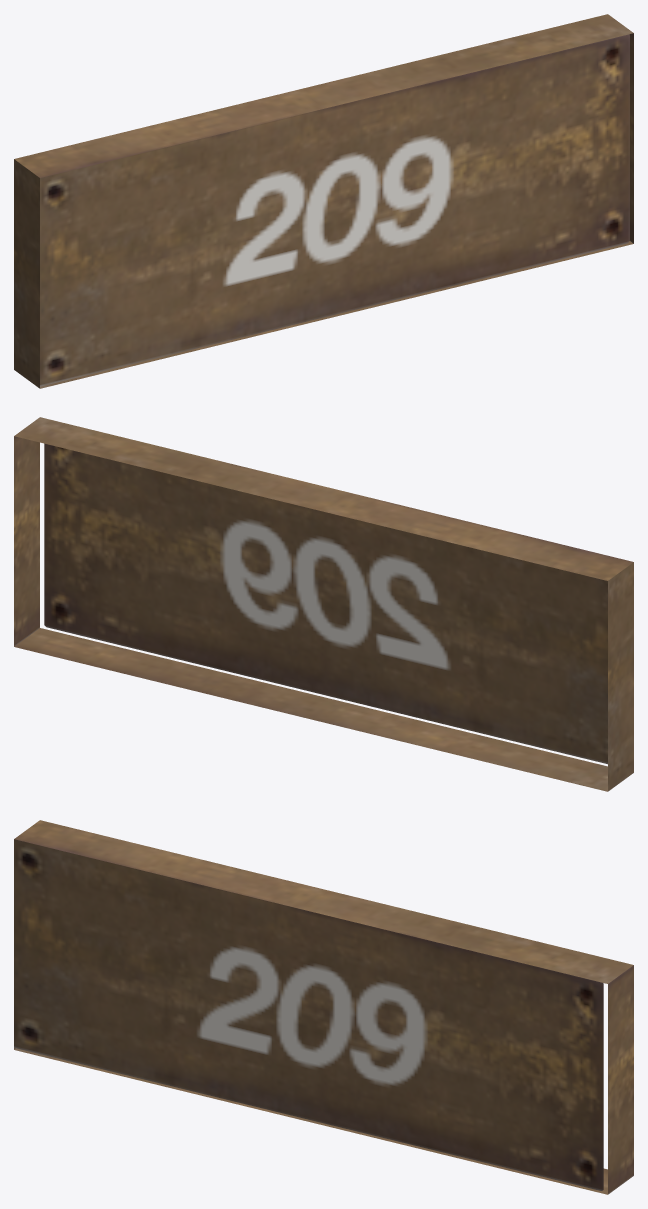
Rendered from 209_sign.FBX.
The picture shows the model from 3 angles, top to bottom: view 1: azimuth 30°, elevation 25°; view 2: azimuth 150°, elevation 25°; view 3: azimuth 330°, elevation 25°; orthographic projection.
Parts seen in each view (by area): view 1: 209_sign; view 2: 209_sign; view 3: 209_sign.
Part boxes in pixels (<box>): 209_sign: <box>14,14,633,388</box>; 209_sign: <box>14,417,633,791</box>; 209_sign: <box>14,820,633,1194</box>.
Bounding box in the file's own units: 68.28 × 23.15 × 5.19.
